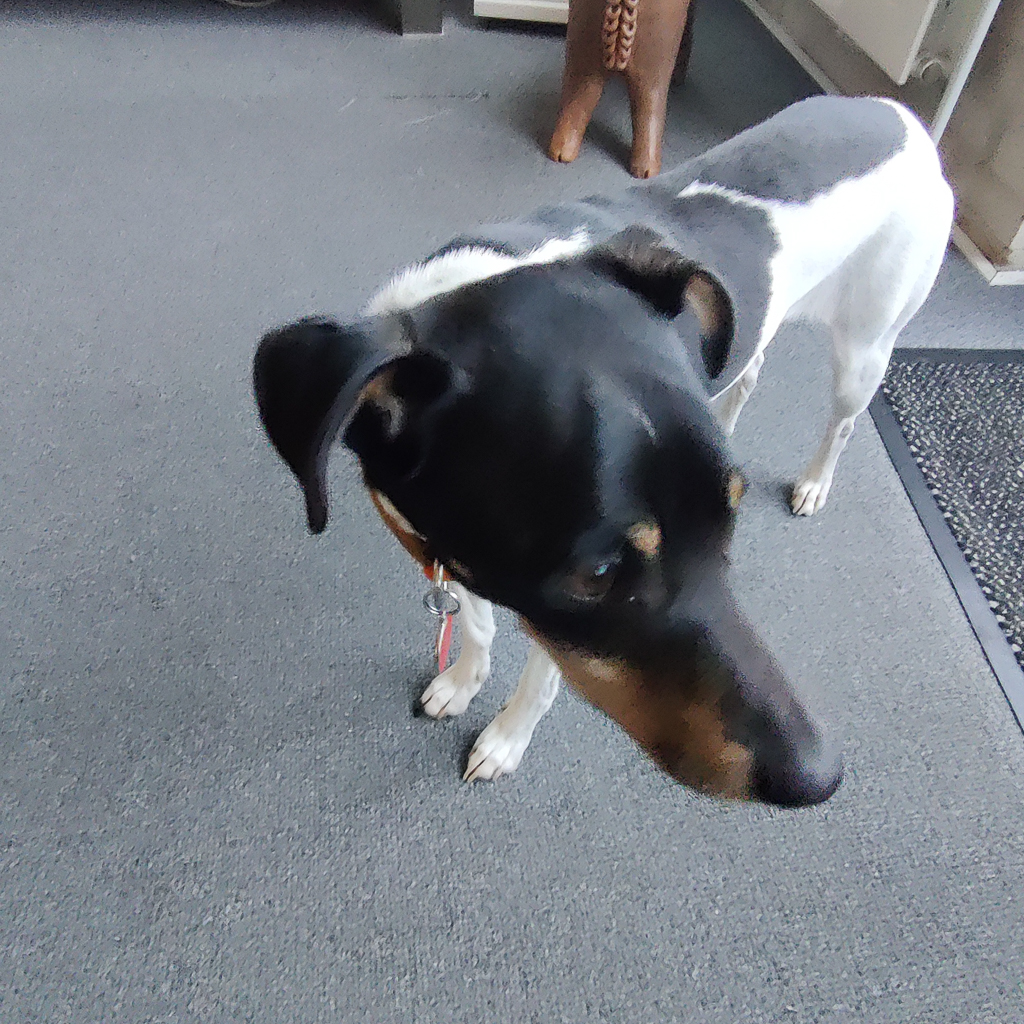Cattle: (528, 0, 705, 190)
Dog: (238, 88, 974, 823)
